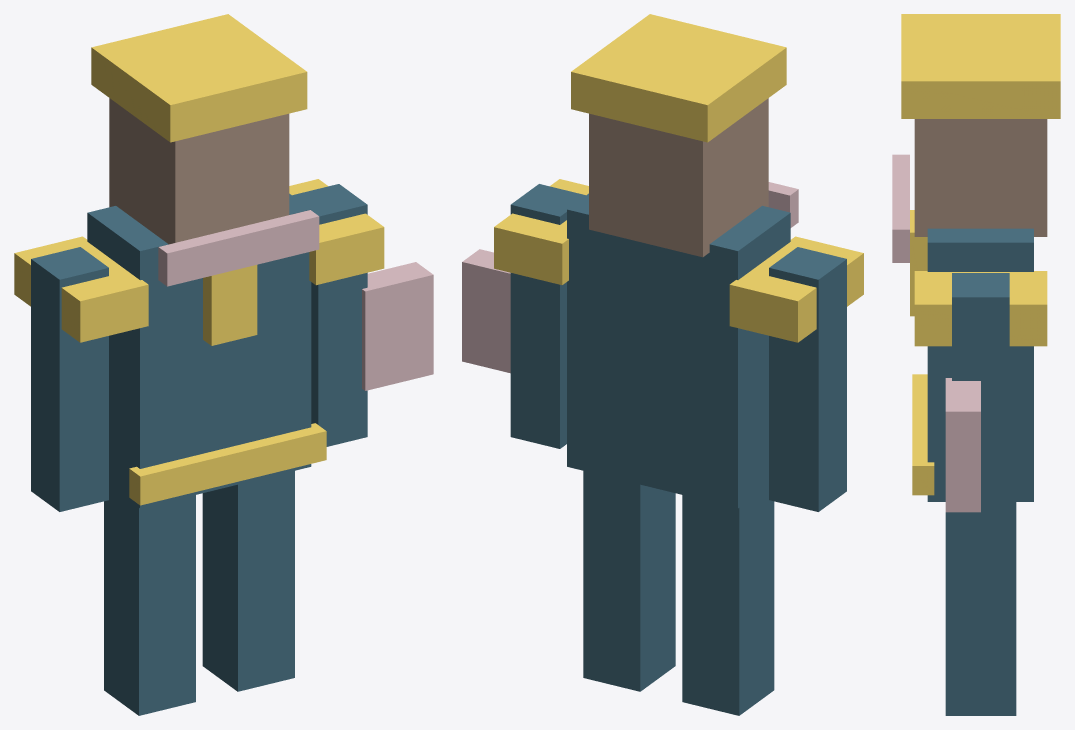
File: 05_thorne_voxmere_smith_near_main.glb
3 views of the same model, side by side, from view 1: azimuth 30°, elevation 25°; view 2: azimuth 150°, elevation 25°; view 3: azimuth 270°, elevation 25° (orthographic).
Parts seen in each view (by area): view 1: Thorne Voxmere, Smith near Main; view 2: Thorne Voxmere, Smith near Main; view 3: Thorne Voxmere, Smith near Main.
Part boxes in pixels (box(x1,y1,x2,y2)): Thorne Voxmere, Smith near Main: box(14, 14, 433, 715); Thorne Voxmere, Smith near Main: box(462, 14, 863, 715); Thorne Voxmere, Smith near Main: box(892, 14, 1060, 715).
Bounding box in the file's own units: 1.02 × 1.65 × 0.3992.
